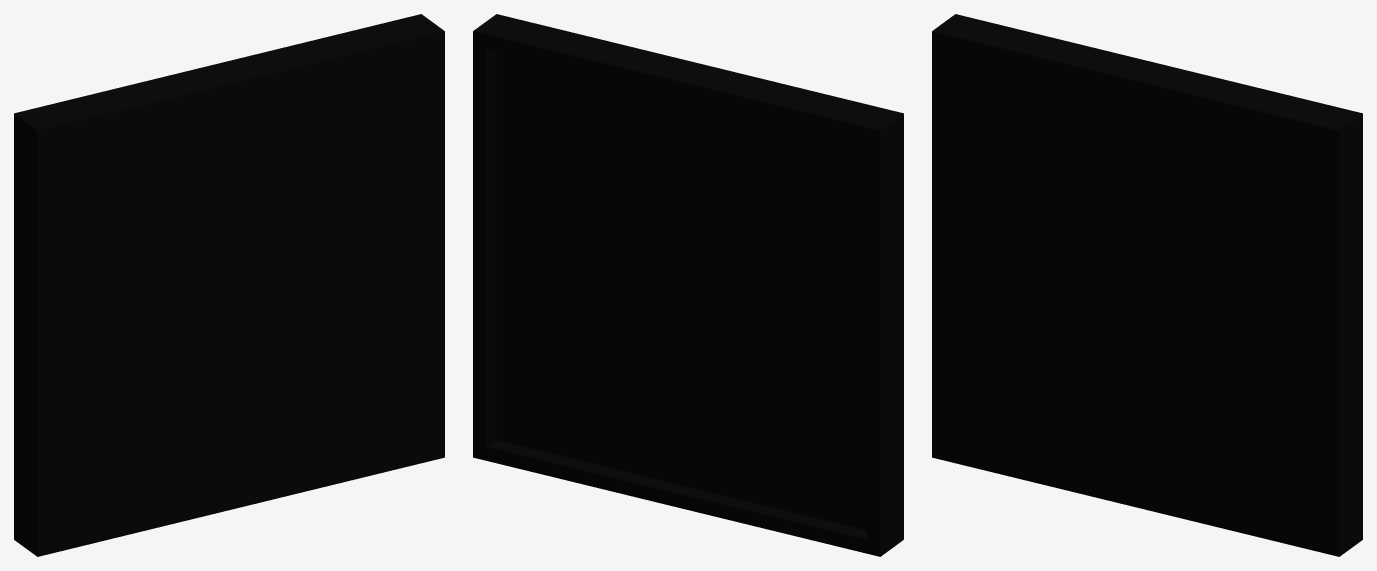
The picture shows the model from 3 angles, left to right: view 1: azimuth 30°, elevation 25°; view 2: azimuth 150°, elevation 25°; view 3: azimuth 330°, elevation 25°; orthographic projection.
Parts seen in each view (by area): view 1: printing_Area; view 2: printing_Area; view 3: printing_Area.
Part boxes in pixels (left/top/right/bottom): printing_Area: left=14, top=14, right=444, bottom=556; printing_Area: left=473, top=14, right=903, bottom=556; printing_Area: left=932, top=14, right=1362, bottom=556.
Bounding box in the file's own units: 1.6 × 1.6 × 0.1607.
1 material, 1 textured.
